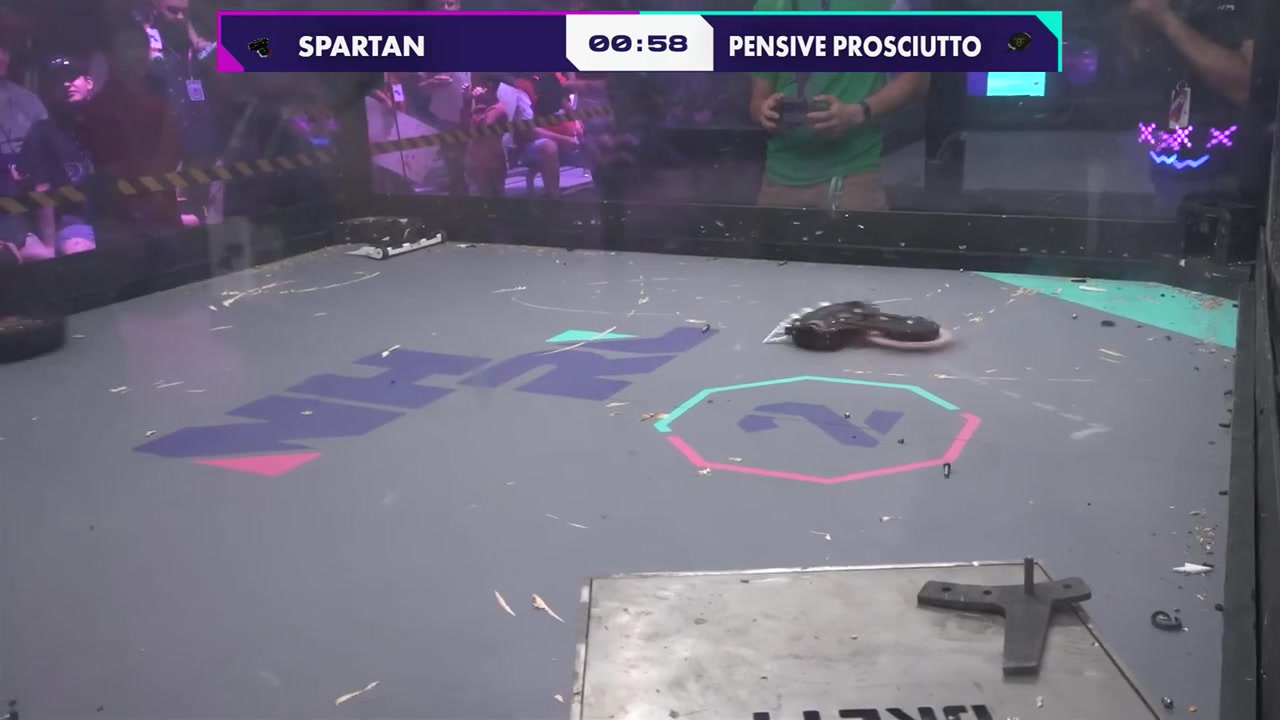combatbot: (790, 301, 956, 357), (359, 217, 446, 259)
debris: (918, 561, 1093, 673)
housebot: (570, 558, 1171, 720), (0, 309, 71, 365)
